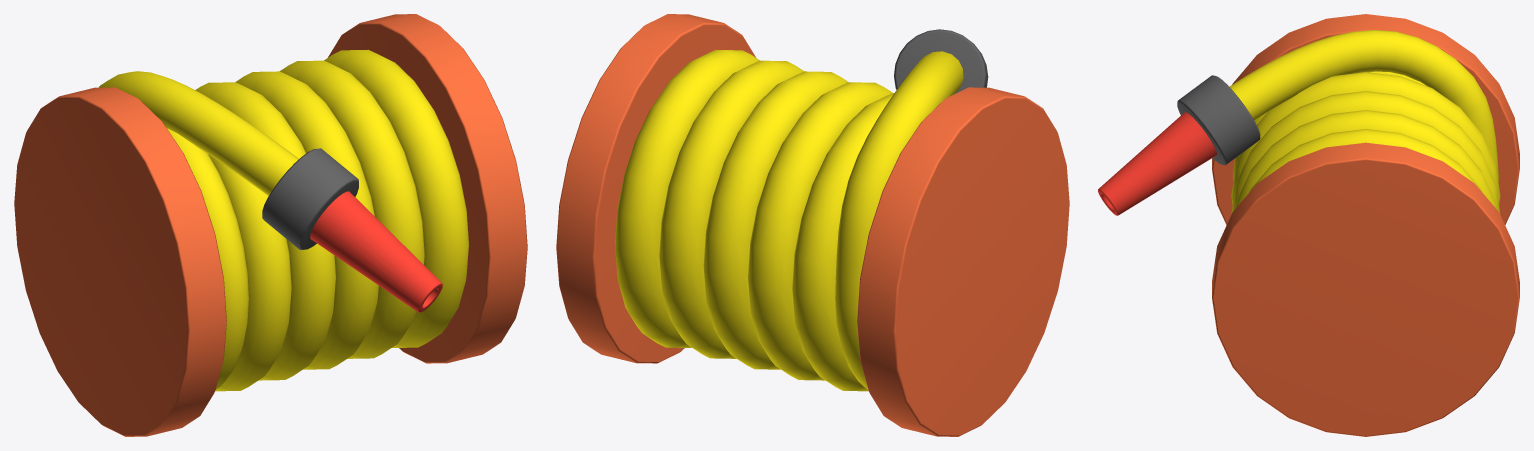
File: Public_11_Fire_Hose_1.glb
3 renders of one model, left to right at view 1: azimuth 30°, elevation 25°; view 2: azimuth 150°, elevation 25°; view 3: azimuth 270°, elevation 25°, orthographic. The views are drawn at different scales.
Parts seen in each view (by area): view 1: Public_11_Fire_Hose_1; view 2: Public_11_Fire_Hose_1; view 3: Public_11_Fire_Hose_1.
Boxes of the visible parts, x1=… form: Public_11_Fire_Hose_1: x1=14, y1=14, x2=527, y2=436; Public_11_Fire_Hose_1: x1=556, y1=14, x2=1069, y2=436; Public_11_Fire_Hose_1: x1=1098, y1=14, x2=1519, y2=436.
Bounding box in the file's own units: 1.63 × 1.5 × 2.
Materials: 1 (1 with a texture image).
